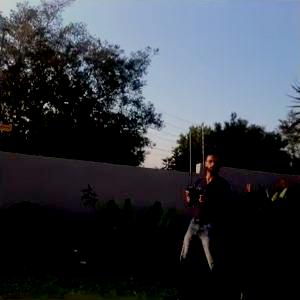follow: (159, 142, 246, 299)
